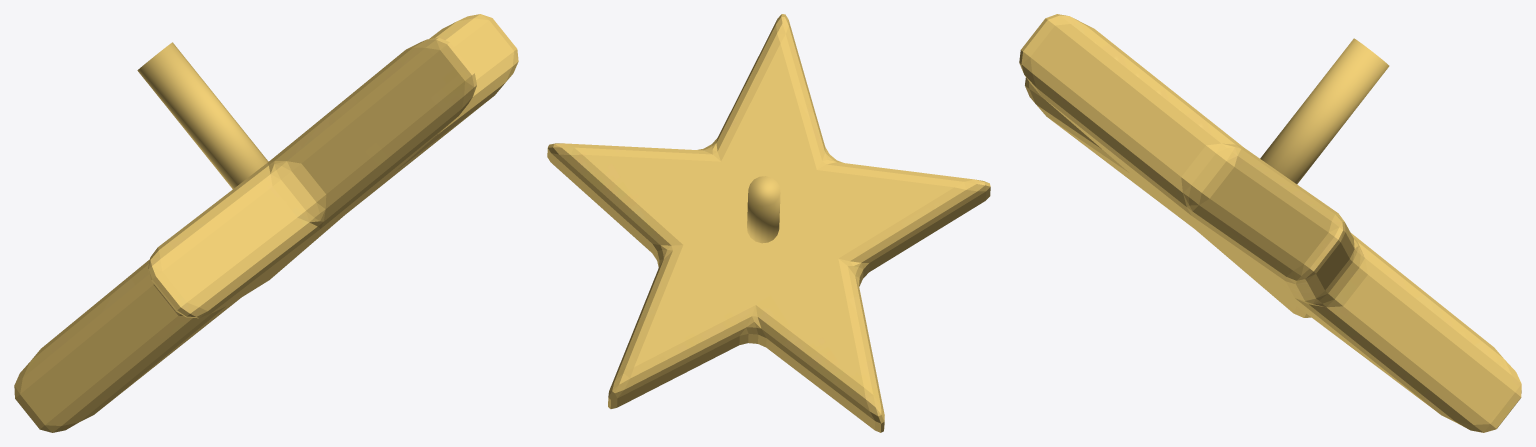
Rendered from wear-star-pin.glb.
The picture shows the model from 3 angles, left to right: view 1: azimuth 30°, elevation 25°; view 2: azimuth 150°, elevation 25°; view 3: azimuth 270°, elevation 25°; orthographic projection. The views are drawn at different scales.
Parts seen in each view (by area): view 1: star-pin; view 2: star-pin; view 3: star-pin.
Boxes of the visible parts, x1,y1,x2,y2 form: star-pin: (14,14,518,432); star-pin: (547,14,990,432); star-pin: (1019,14,1521,432).
Bounding box in the file's own units: 0.2004 × 0.165 × 0.1749.
1 material, 1 textured.
